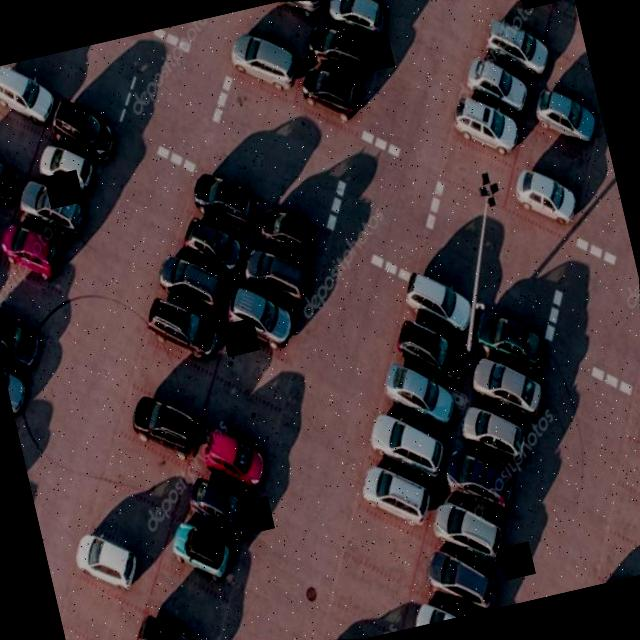car: (60, 511, 168, 626), (135, 278, 234, 380), (114, 372, 212, 473), (380, 300, 480, 397), (388, 260, 488, 356), (154, 502, 248, 604), (345, 449, 441, 544), (355, 400, 452, 494), (179, 160, 275, 254), (418, 486, 513, 580), (147, 234, 240, 330), (214, 268, 306, 364), (461, 302, 558, 393), (184, 412, 275, 508), (230, 230, 322, 324), (498, 154, 589, 249), (368, 350, 463, 440), (164, 199, 255, 292), (246, 190, 336, 284), (282, 49, 373, 141), (456, 342, 550, 430), (431, 436, 522, 526), (220, 21, 312, 110), (442, 81, 534, 168), (412, 533, 501, 621), (520, 76, 609, 164), (0, 210, 81, 305), (5, 168, 94, 254), (177, 463, 263, 552), (39, 86, 125, 175), (450, 394, 538, 478), (25, 133, 110, 214), (469, 8, 556, 86), (302, 10, 386, 87), (457, 47, 540, 121), (0, 55, 68, 145), (0, 308, 51, 386), (402, 585, 488, 628), (318, 0, 392, 43), (0, 347, 39, 424), (257, 0, 328, 31), (0, 149, 30, 217)
free: (92, 413, 206, 528), (77, 466, 185, 574), (124, 325, 230, 431), (332, 492, 436, 598), (137, 543, 245, 640), (504, 110, 600, 206), (321, 546, 416, 638), (198, 375, 288, 468), (208, 312, 296, 406), (52, 562, 158, 640), (432, 128, 518, 205), (0, 247, 66, 338), (0, 91, 53, 169), (540, 52, 600, 118), (482, 0, 562, 45)
